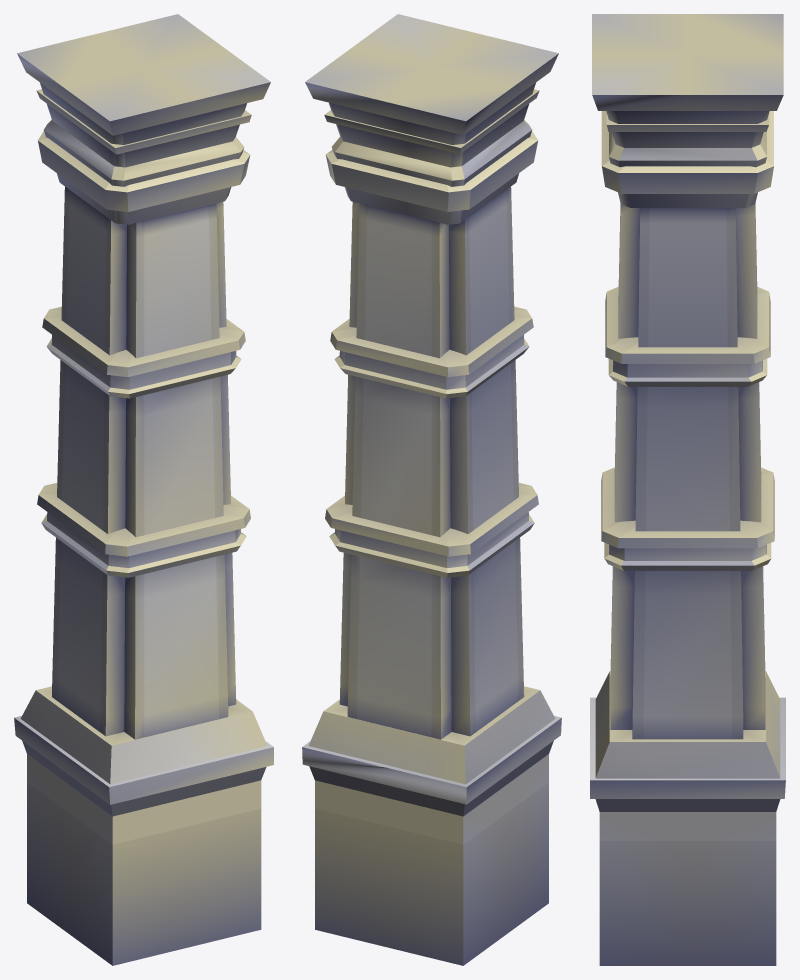
File: SquarePillarMid.gltf
The picture shows the model from 3 angles, left to right: view 1: azimuth 30°, elevation 25°; view 2: azimuth 150°, elevation 25°; view 3: azimuth 270°, elevation 25°; orthographic projection. The views are drawn at different scales.
Visible parts, largest first — view 1: SquarePillarMidMesh; view 2: SquarePillarMidMesh; view 3: SquarePillarMidMesh.
Boxes of the visible parts, bbox=[...] form: SquarePillarMidMesh: bbox=[14, 14, 273, 965]; SquarePillarMidMesh: bbox=[302, 14, 561, 965]; SquarePillarMidMesh: bbox=[590, 14, 785, 965].
Size of the model in its own units: 2.04 by 10.02 by 2.04.
